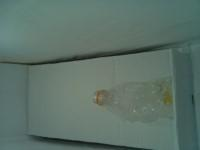bottle: (92, 66, 174, 116)
